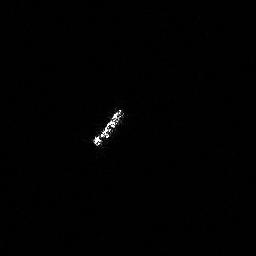ship: (87, 103, 130, 152)
